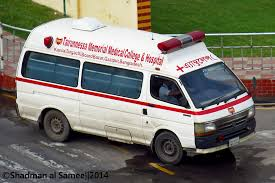Ambulance: (11, 12, 264, 167)
